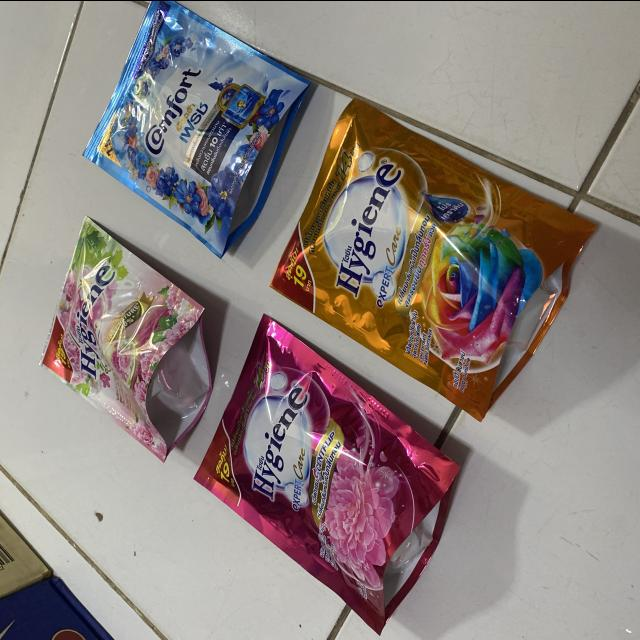plastik: (272, 99, 595, 419), (194, 315, 459, 633), (83, 0, 309, 256), (40, 216, 211, 460)
